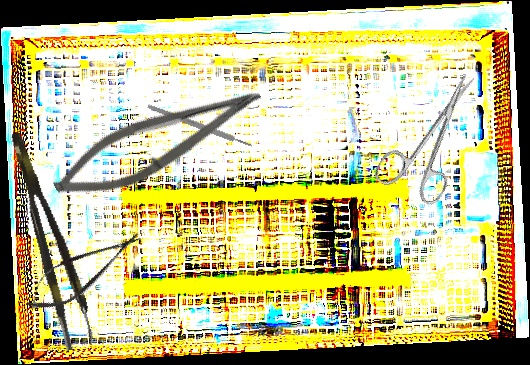Iris Scissors: (371, 59, 502, 213)
Micro Scissor: (44, 61, 270, 219), (16, 217, 151, 324)
Scalpel Handle: (146, 103, 254, 149)
Tissue Forceps: (7, 126, 98, 352)
